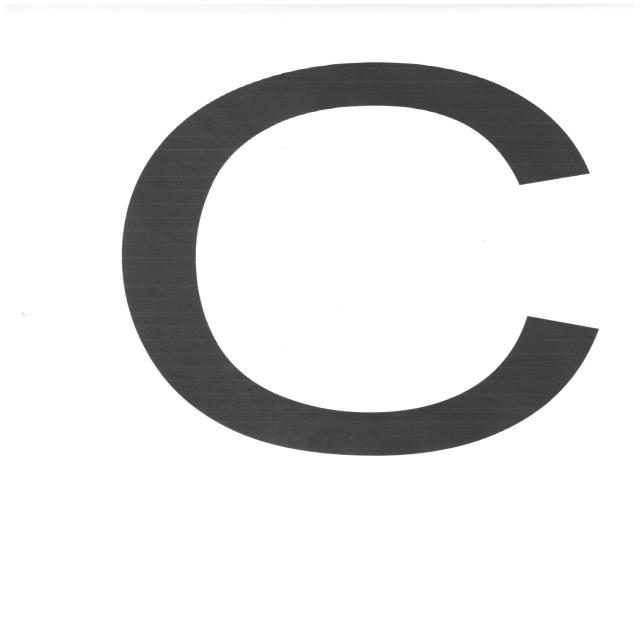c: (86, 33, 640, 470)
